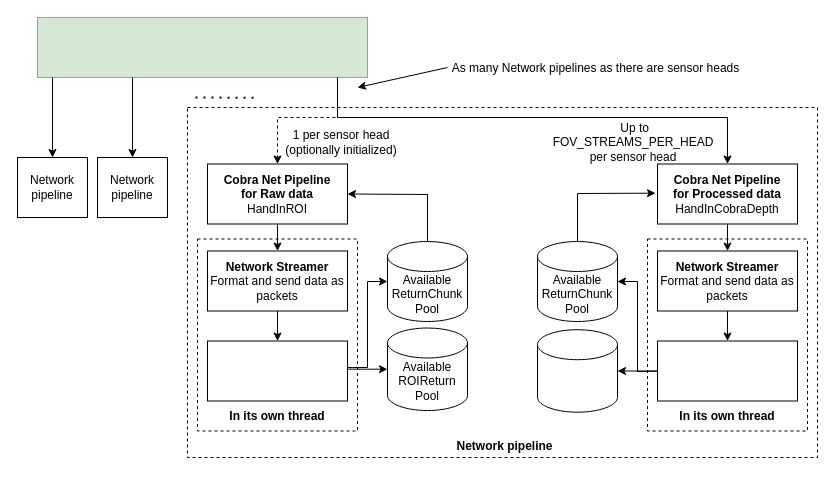
Image size: 835x478. Some labels were removed from this diagram. The shapes that lost their labels are listed below. From the top down, each one's box as (x1, y1, x2, y2) in pixels, then its label:
(36, 16, 368, 78): SensorHeadThread
(206, 340, 348, 401): Network Streamer Clean current ReturnChunk and ROIReturn
(536, 329, 618, 412): Available CPIReturn Pool
(656, 340, 798, 401): Network Streamer Clean current ReturnChunk and CPIReturns
